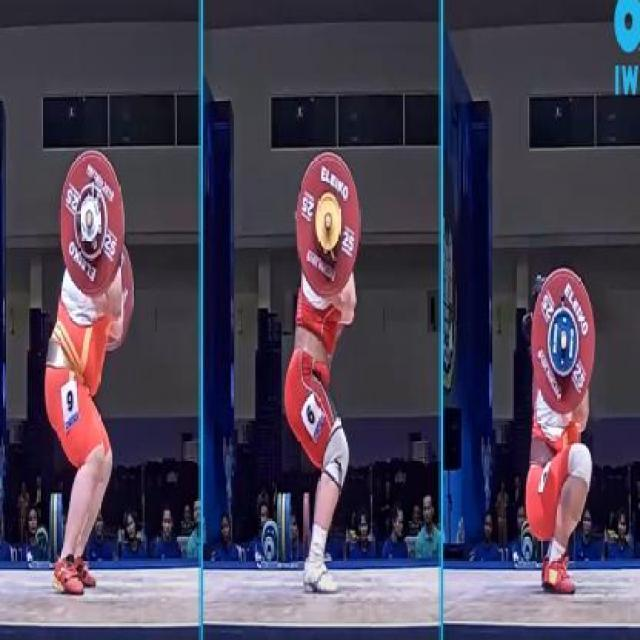barbell: (46, 126, 134, 314), (288, 137, 368, 308), (520, 260, 603, 419)
